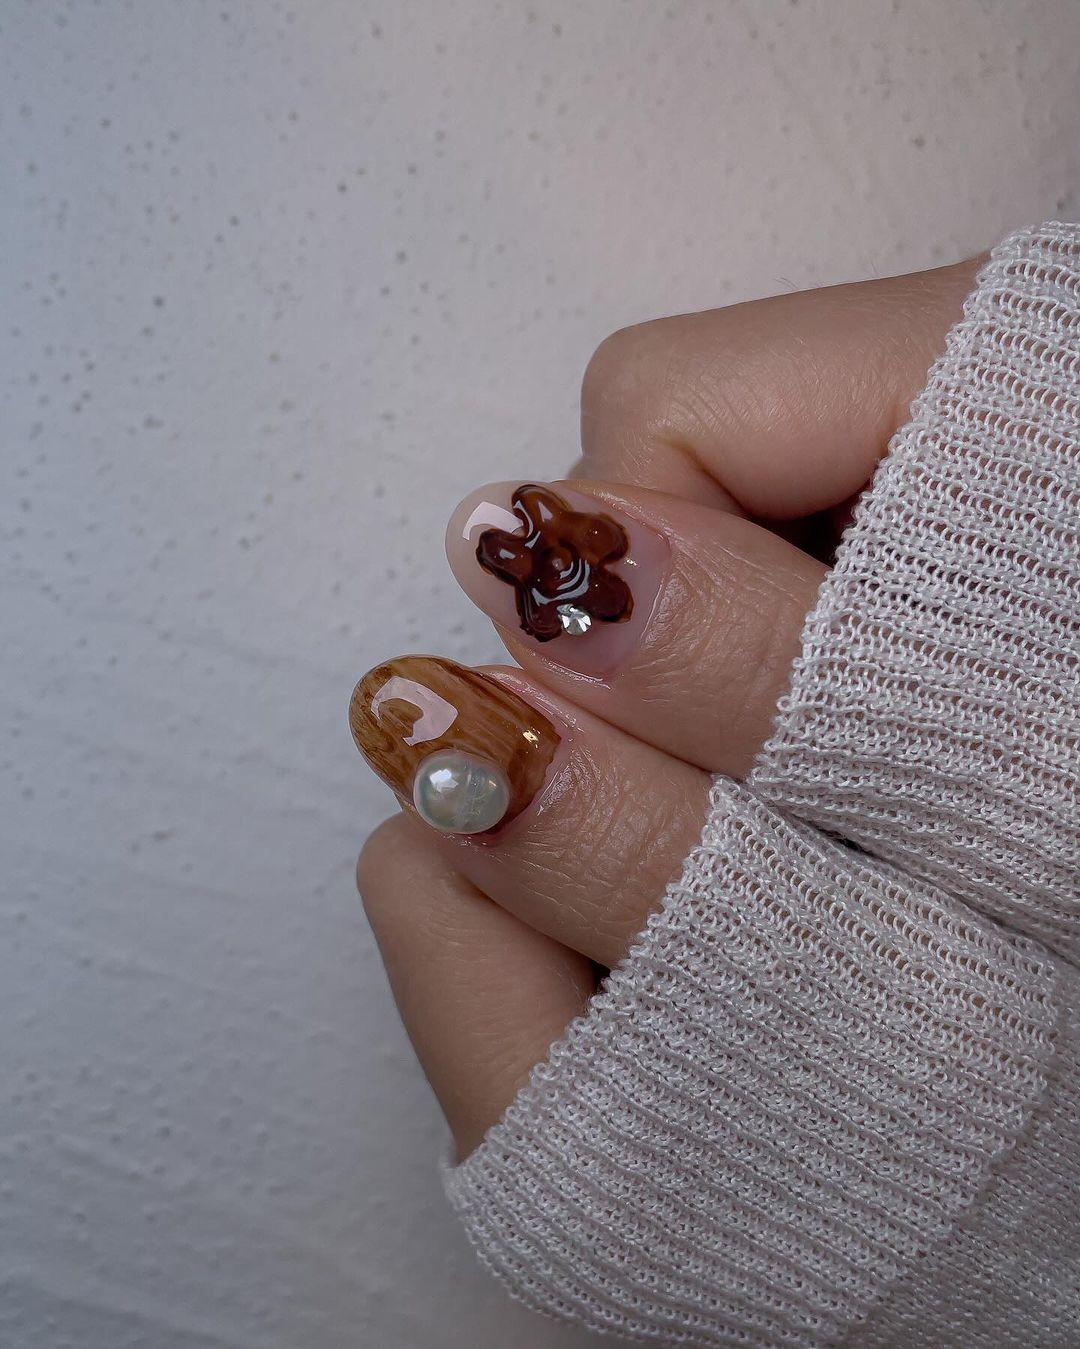nail: (346, 652, 560, 840)
